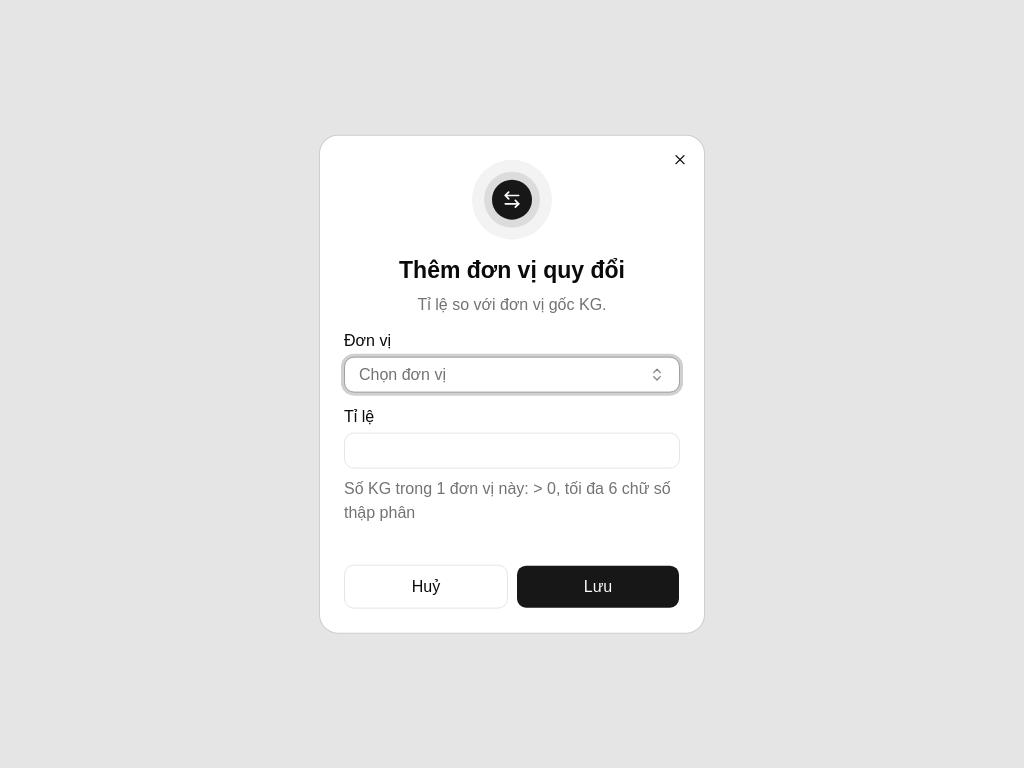
Test case: ConversionUnitDialog › tỉ lệ quá 6 số lẻ → lỗi dưới ô, không gửi; ≥ 1e12 → câu "quá lớn"
Click the dropdown labelled "đơn vị" at (402, 374), box top-left (344, 356), bottom-right (680, 392)
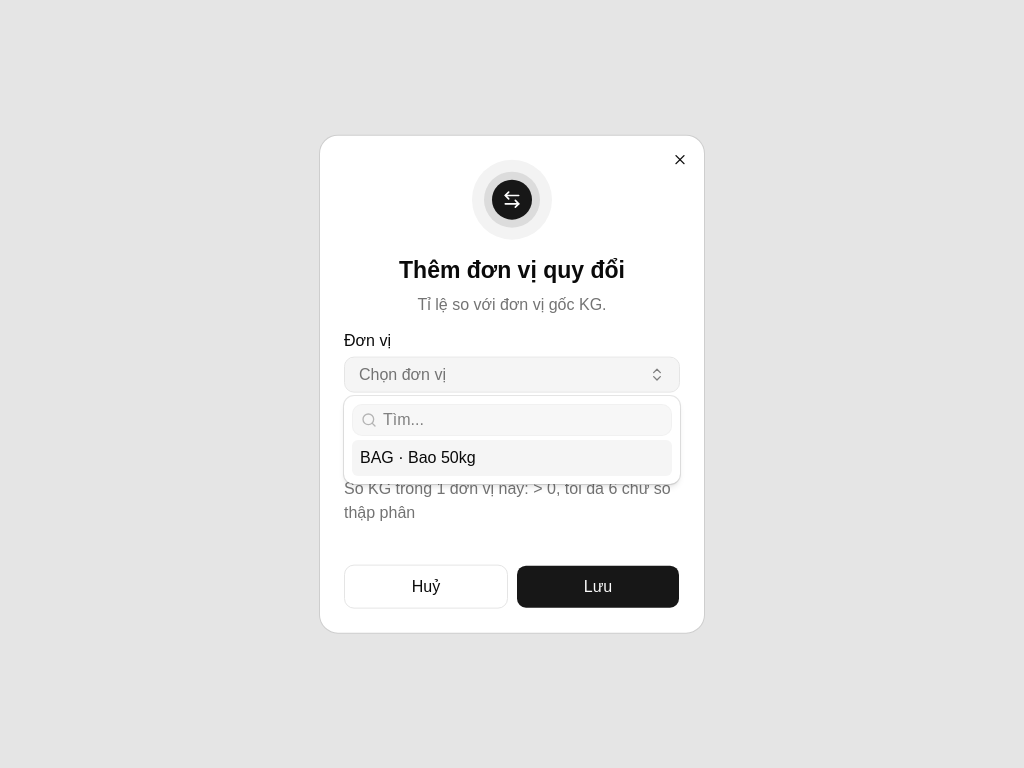
Click the option "BAG · Bao 50kg" at (418, 458), box top-left (352, 440), bottom-right (672, 476)
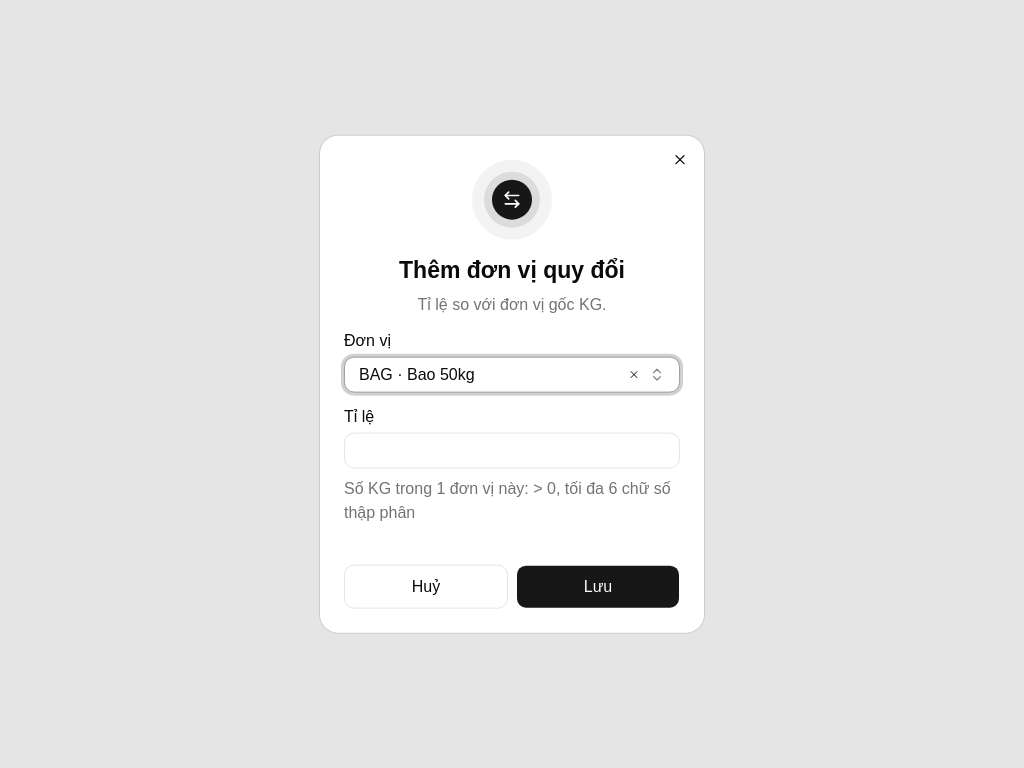
Type "0.1234567" into the field labelled "Tỉ lệ" at (512, 450), box top-left (344, 432), bottom-right (680, 468)
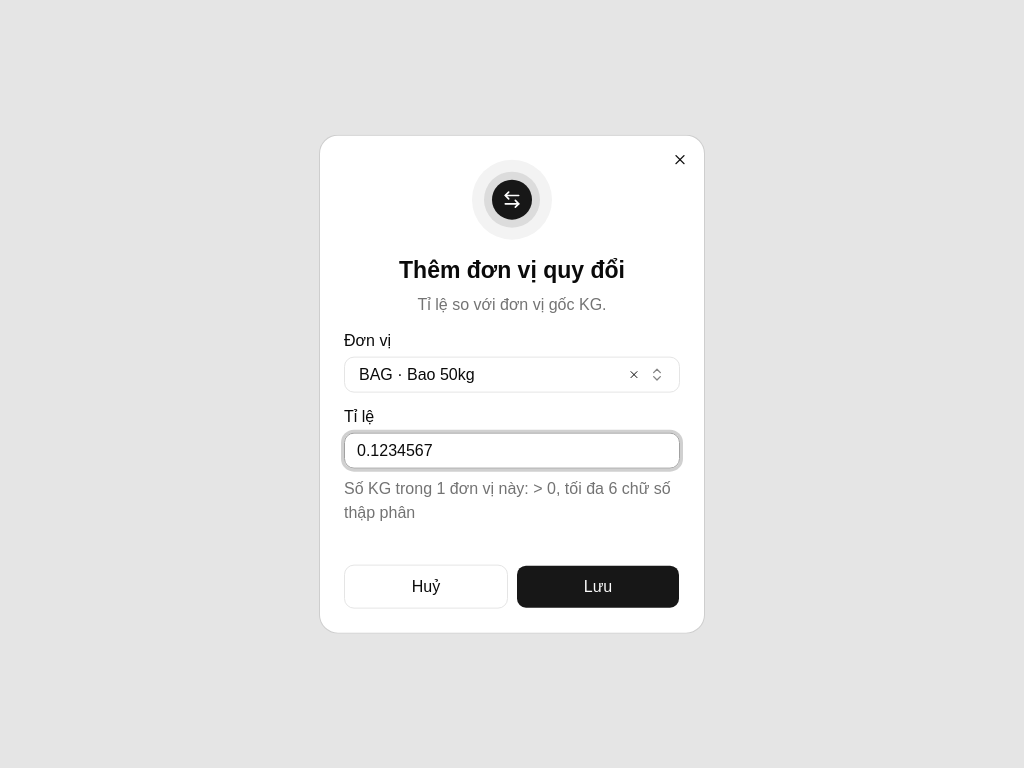
Click the button "Lưu" at (598, 586), box top-left (516, 564), bottom-right (680, 608)
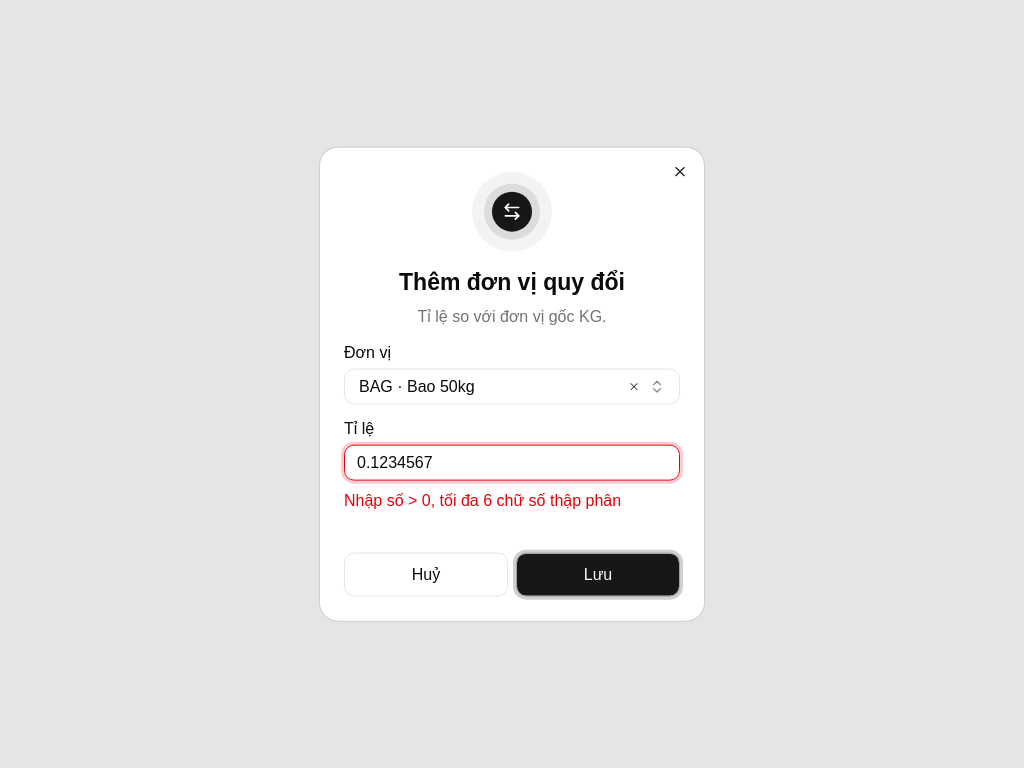
Now the message reads "Nhập số > 0, tối đa 6 chữ số thập phân", box top-left (344, 491), bottom-right (621, 508)
Clear the field labelled "Tỉ lệ" at (512, 462), box top-left (344, 444), bottom-right (680, 480)
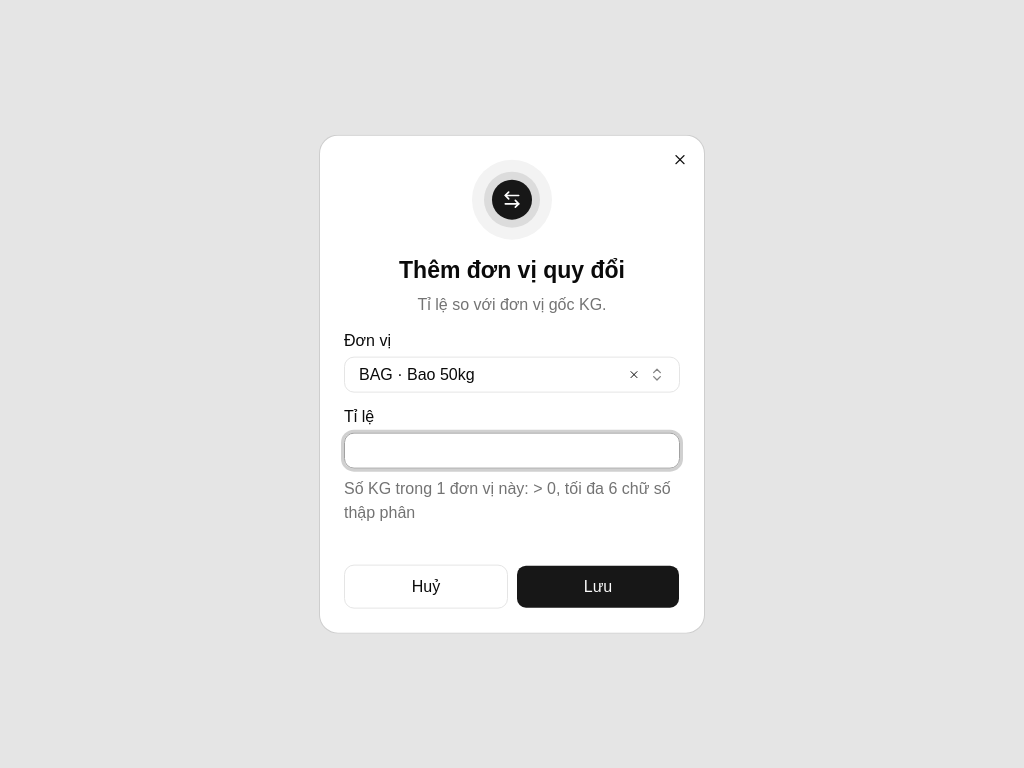
Type "1000000000000" into the field labelled "Tỉ lệ" at (512, 450), box top-left (344, 432), bottom-right (680, 468)
Click the button "Lưu" at (598, 586), box top-left (516, 564), bottom-right (680, 608)
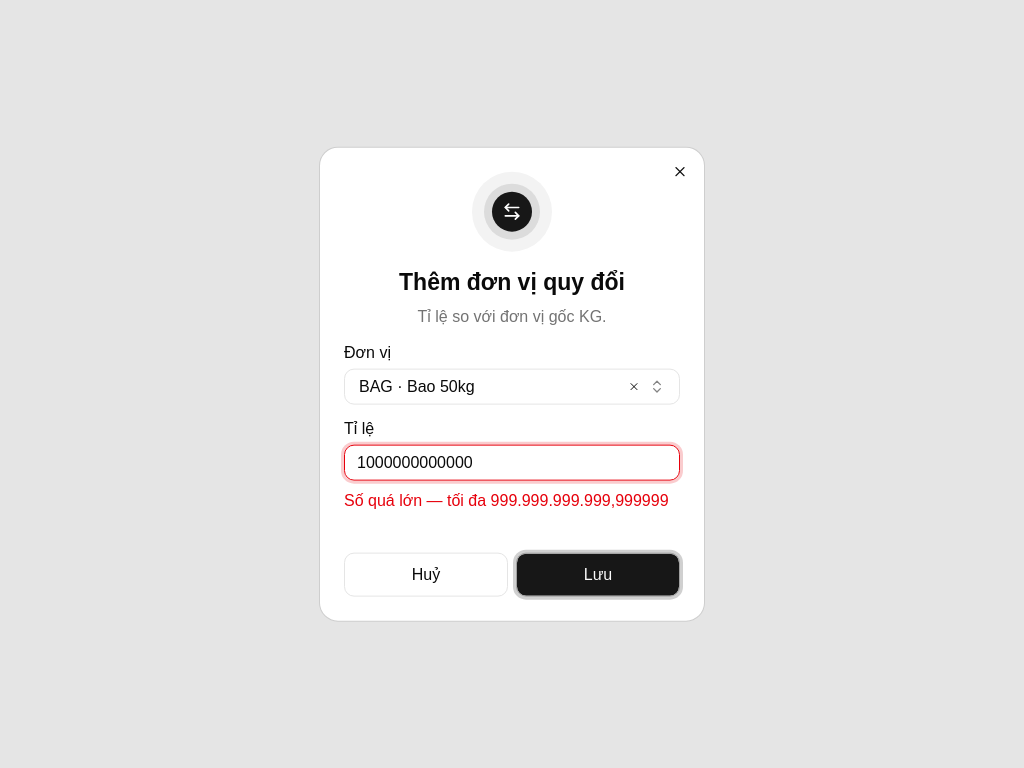
Now the message shows "Số quá lớn", box top-left (344, 491), bottom-right (668, 508)
